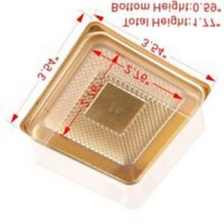plastic_box: (11, 16, 215, 216)
